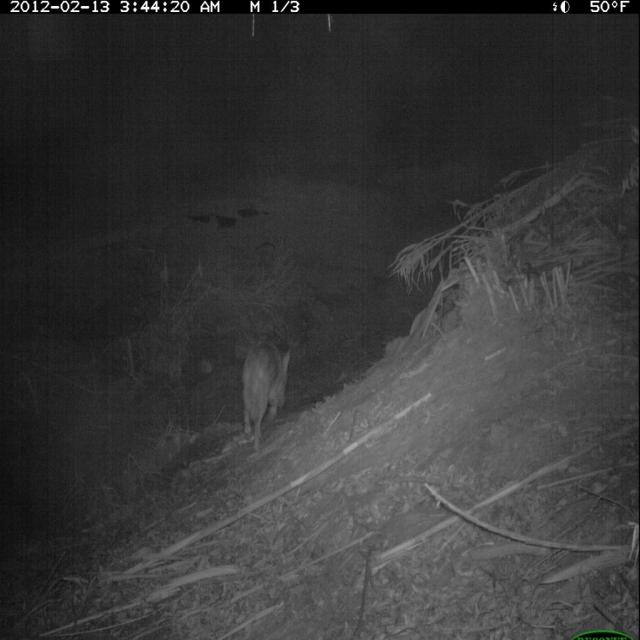coyote: (238, 334, 297, 451)
